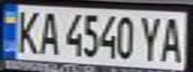0: (115, 12, 139, 61)
4: (60, 10, 84, 57), (100, 11, 121, 60)
5: (78, 10, 100, 58)
A: (157, 13, 187, 64), (36, 8, 60, 56)
K: (12, 7, 42, 55)
Y: (136, 14, 166, 62)
